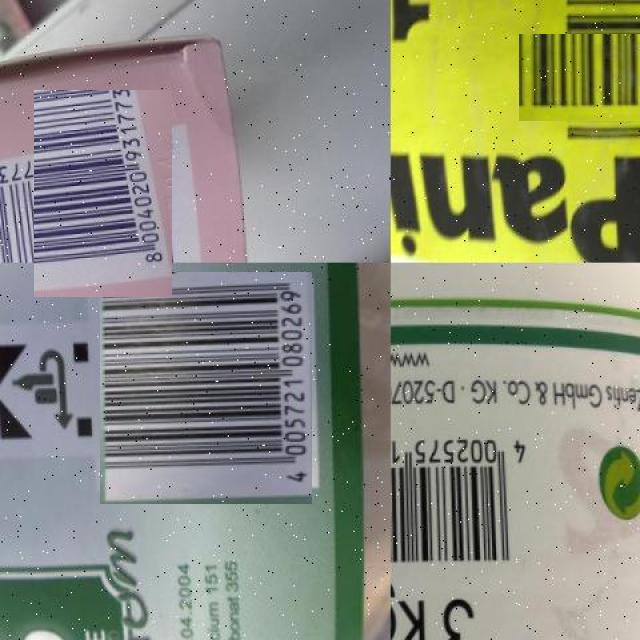Barcode: (95, 276, 317, 499), (17, 107, 190, 280), (391, 423, 541, 577), (536, 17, 640, 139)
